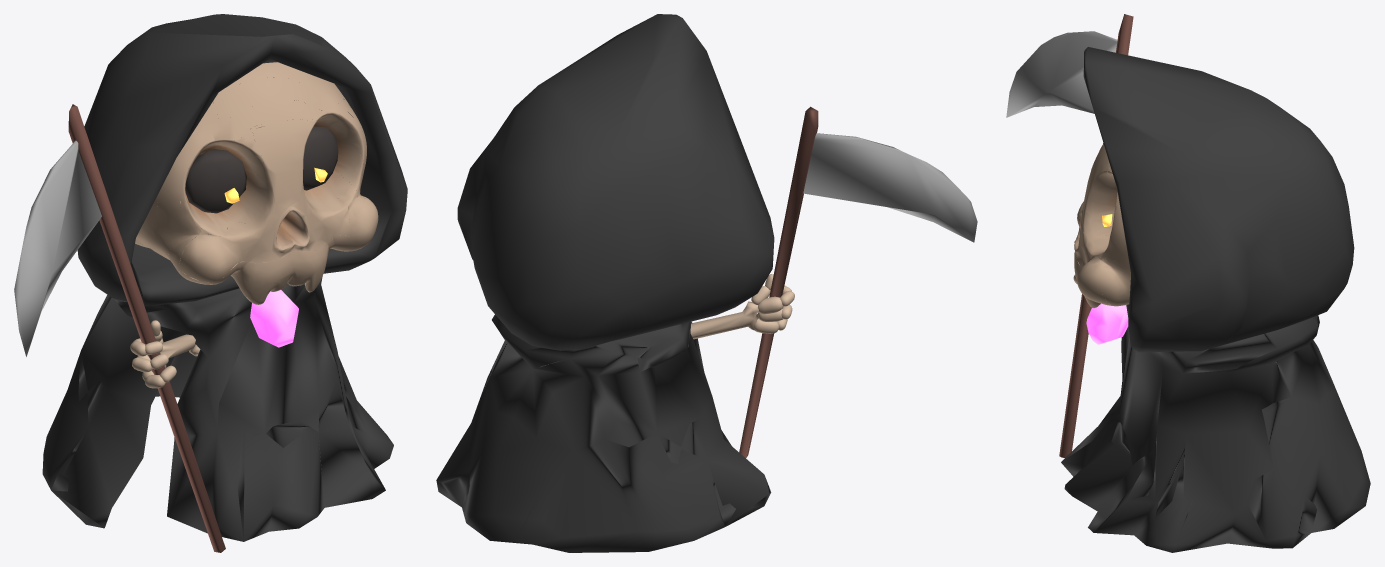
The model's file is rob_reaper2.glb.
The picture shows the model from 3 angles, left to right: view 1: azimuth 30°, elevation 25°; view 2: azimuth 150°, elevation 25°; view 3: azimuth 270°, elevation 25°; orthographic projection. The views are drawn at different scales.
Visible parts, largest first — view 1: Cube.003, Cube, Cube.001, Plane, Cylinder, Sphere, Sphere.001, Cube.004; view 2: Cube, Cube.003, Plane, Cylinder, Cube.004; view 3: Cube, Cube.003, Cube.001, Plane, Cylinder, Sphere.001.
Boxes of the visible parts, box(x1,y1,x2,y2) form: Cube.003: box(42, 217, 393, 541); Cube: box(77, 14, 407, 306); Cube.001: box(135, 62, 378, 304); Plane: box(14, 140, 101, 356); Cylinder: box(68, 104, 225, 552); Sphere: box(185, 126, 338, 213); Sphere.001: box(250, 290, 298, 347); Cube.004: box(160, 334, 195, 367); Cube: box(457, 14, 774, 350); Cube.003: box(436, 314, 771, 552); Plane: box(803, 133, 977, 242); Cylinder: box(739, 106, 818, 457); Cube.004: box(690, 301, 758, 339); Cube: box(1083, 47, 1354, 352); Cube.003: box(1061, 315, 1370, 552); Cube.001: box(1074, 143, 1130, 307); Plane: box(1006, 31, 1117, 117); Cylinder: box(1059, 14, 1133, 457); Sphere.001: box(1086, 303, 1128, 344).
Size of the model in its own units: 3.38 by 3.42 by 2.58.
